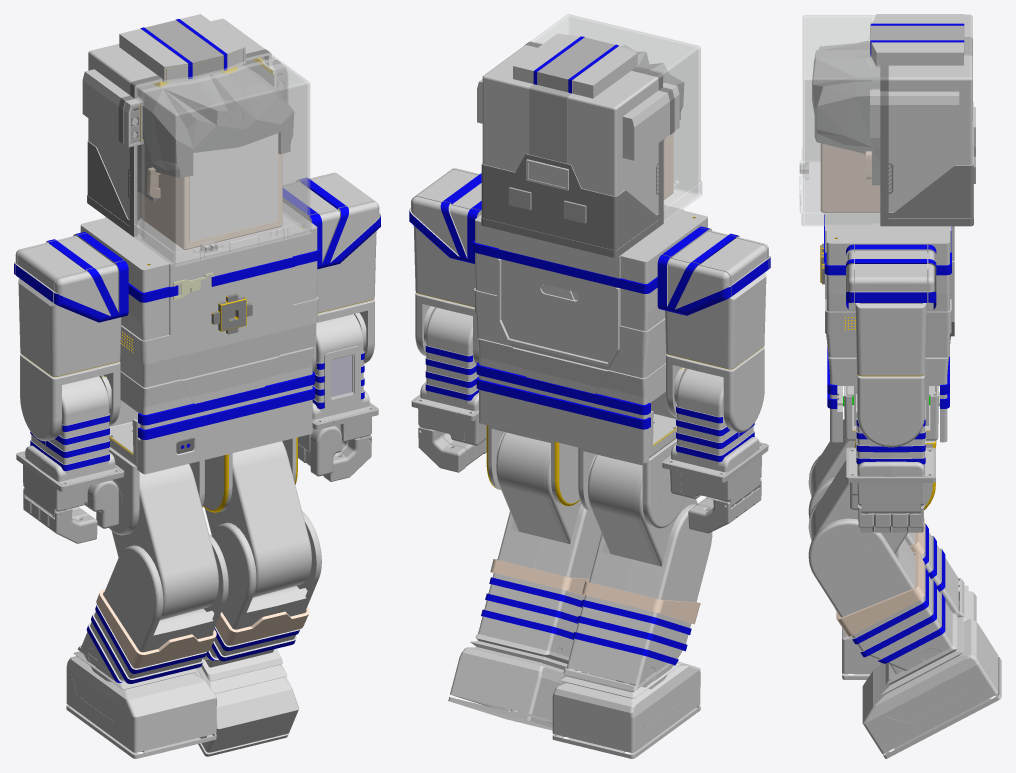
File: zbhdraco.glb
The picture shows the model from 3 angles, left to right: view 1: azimuth 30°, elevation 25°; view 2: azimuth 150°, elevation 25°; view 3: azimuth 270°, elevation 25°; orthographic projection. The views are drawn at different scales.
Visible parts, largest first — view 1: 外壳_id366_x_t, 外壳_id170_x_t, 外壳_id362_x_t, 外壳_id194_x_t, 外壳_id90_x_t, 外壳_id346_x_t, 外壳_id122_x_t, 外壳_id294_x_t, 外壳_id34_x_t, 外壳_id114_x_t, 外壳_id274_x_t, 外壳_id222_x_t (+36 smaller); view 2: 外壳_id362_x_t, 外壳_id166_x_t, 外壳_id190_x_t, 外壳_id366_x_t, 外壳_id314_x_t, 外壳_id34_x_t, 外壳_id298_x_t, 外壳_id270_x_t, 外壳_id114_x_t, 外壳_id14_x_t, 外壳_id254_x_t, 外壳_id294_x_t (+33 smaller); view 3: 外壳_id362_x_t, 外壳_id366_x_t, 外壳_id222_x_t, 外壳_id90_x_t, 外壳_id38_x_t, 外壳_id30_x_t, 外壳_id298_x_t, 外壳_id170_x_t, 外壳_id158_x_t, 外壳_id226_x_t, 外壳_id166_x_t, 外壳_id342_x_t (+19 smaller).
Part boxes in pixels (x1=…): 外壳_id366_x_t: x1=134, y1=53, x2=311, y2=266; 外壳_id170_x_t: x1=109, y1=204, x2=318, y2=387; 外壳_id362_x_t: x1=82, y1=14, x2=287, y2=236; 外壳_id194_x_t: x1=120, y1=347, x2=313, y2=474; 外壳_id90_x_t: x1=137, y1=64, x2=294, y2=201; 外壳_id346_x_t: x1=189, y1=133, x2=277, y2=241; 外壳_id122_x_t: x1=139, y1=464, x2=218, y2=619; 外壳_id294_x_t: x1=234, y1=441, x2=311, y2=597; 外壳_id34_x_t: x1=18, y1=278, x2=121, y2=376; 外壳_id114_x_t: x1=103, y1=534, x2=228, y2=652; 外壳_id274_x_t: x1=40, y1=376, x2=120, y2=485; 外壳_id222_x_t: x1=195, y1=648, x2=299, y2=731; 外壳_id362_x_t: x1=477, y1=33, x2=679, y2=257; 外壳_id166_x_t: x1=474, y1=215, x2=676, y2=378; 外壳_id190_x_t: x1=478, y1=338, x2=665, y2=463; 外壳_id366_x_t: x1=531, y1=14, x2=701, y2=222; 外壳_id314_x_t: x1=566, y1=595, x2=691, y2=689; 外壳_id34_x_t: x1=665, y1=272, x2=766, y2=369; 外壳_id298_x_t: x1=478, y1=573, x2=584, y2=657; 外壳_id270_x_t: x1=666, y1=368, x2=744, y2=475; 外壳_id114_x_t: x1=589, y1=504, x2=712, y2=602; 外壳_id14_x_t: x1=552, y1=661, x2=700, y2=728; 外壳_id254_x_t: x1=415, y1=307, x2=478, y2=414; 外壳_id294_x_t: x1=496, y1=432, x2=564, y2=542; 外壳_id362_x_t: x1=870, y1=14, x2=975, y2=226; 外壳_id366_x_t: x1=799, y1=15, x2=880, y2=225; 外壳_id222_x_t: x1=862, y1=613, x2=980, y2=726; 外壳_id90_x_t: x1=812, y1=41, x2=880, y2=185; 外壳_id38_x_t: x1=808, y1=498, x2=915, y2=617; 外壳_id30_x_t: x1=855, y1=303, x2=926, y2=376; 外壳_id298_x_t: x1=851, y1=567, x2=952, y2=670; 外壳_id170_x_t: x1=825, y1=213, x2=890, y2=357; 外壳_id158_x_t: x1=855, y1=244, x2=927, y2=302; 外壳_id226_x_t: x1=865, y1=628, x2=998, y2=753; 外壳_id166_x_t: x1=891, y1=226, x2=954, y2=357; 外壳_id342_x_t: x1=820, y1=143, x2=880, y2=212.
Bounding box in the file's own units: 0.2226 × 0.4602 × 0.1231.
